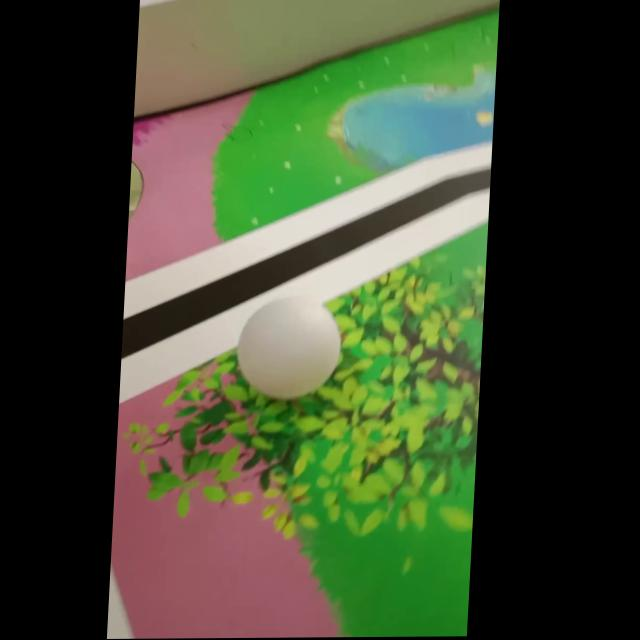white ball: (234, 293, 344, 400)
